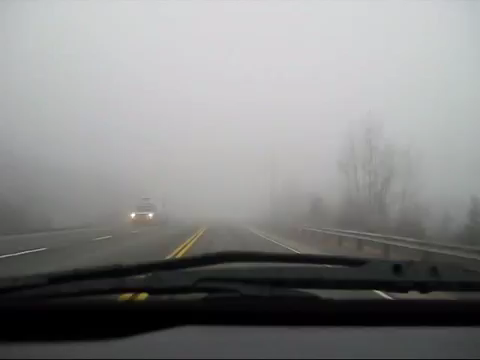car: (128, 201, 159, 223)
